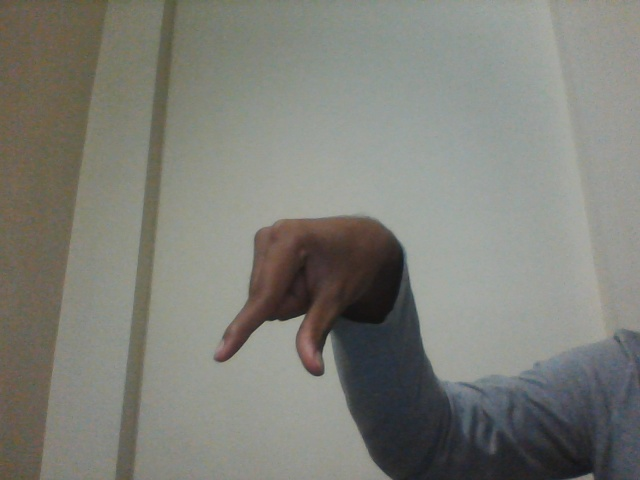q: (207, 196, 389, 388)
